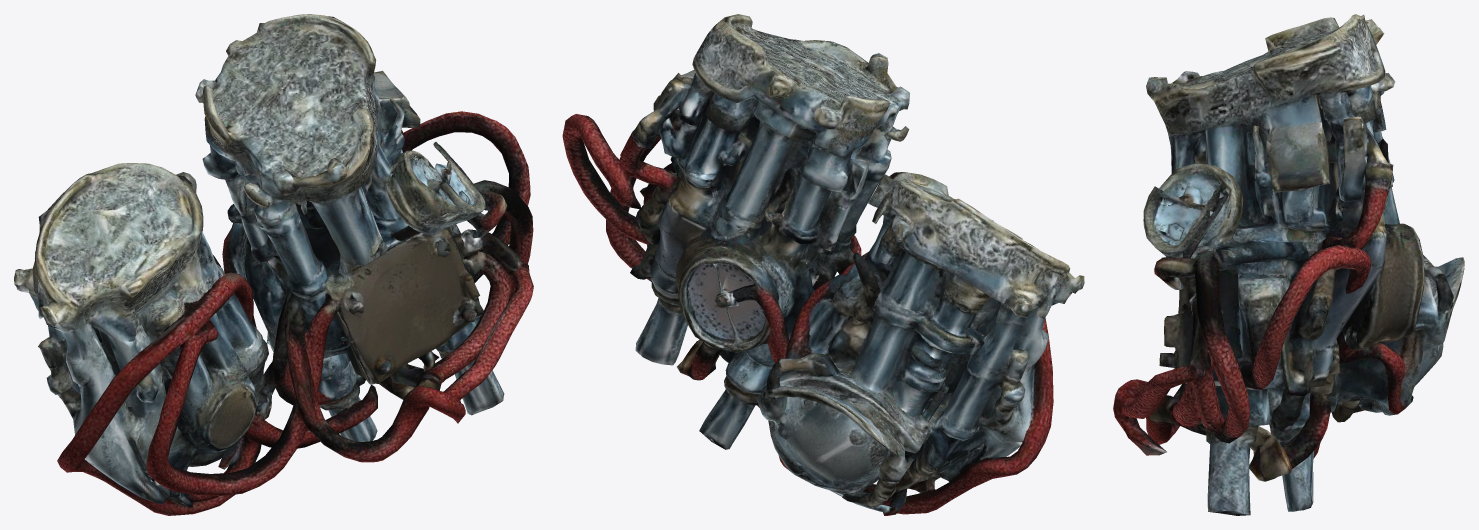
The model's file is prop_bulwark_pistons.glb.
3 renders of one model, left to right at view 1: azimuth 30°, elevation 25°; view 2: azimuth 150°, elevation 25°; view 3: azimuth 270°, elevation 25°, orthographic. The views are drawn at different scales.
Bounding box in the file's own units: 0.3779 × 0.33 × 0.2124.
Materials: 1 (1 with a texture image).
